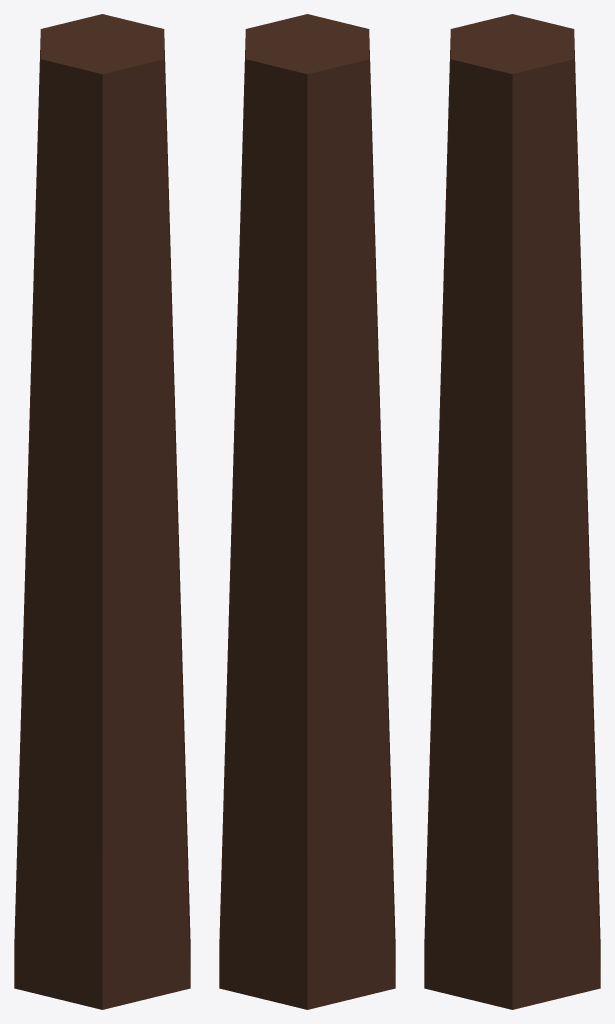
The model's file is pine_trunk.fbx.
3 renders of one model, left to right at view 1: azimuth 30°, elevation 25°; view 2: azimuth 150°, elevation 25°; view 3: azimuth 270°, elevation 25°, orthographic.
Visible parts, largest first — view 1: PineTrunk; view 2: PineTrunk; view 3: PineTrunk.
Part boxes in pixels (x1,y1,x2,y2): PineTrunk: (14,14,190,1009); PineTrunk: (219,14,395,1009); PineTrunk: (424,14,600,1009).
Size of the model in its own units: 0.4 by 2 by 0.3464.
